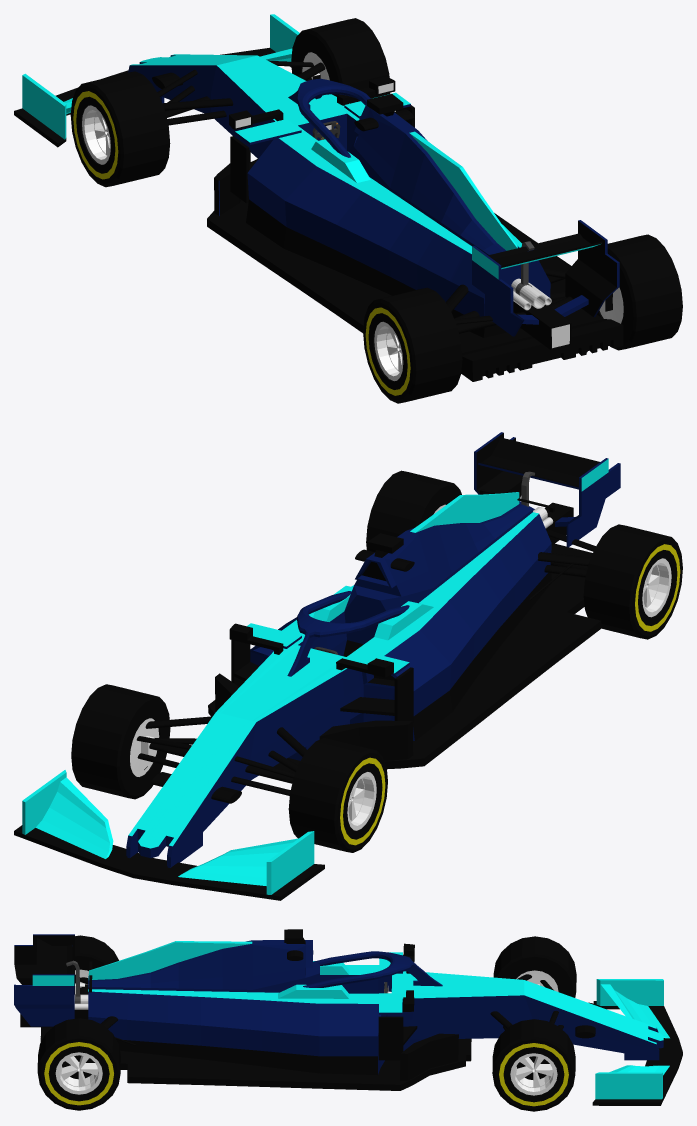
The picture shows the model from 3 angles, top to bottom: view 1: azimuth 30°, elevation 25°; view 2: azimuth 150°, elevation 25°; view 3: azimuth 270°, elevation 25°; orthographic projection. The views are drawn at different scales.
Parts seen in each view (by area): view 1: Chassis, Front Left Wheel, Rear Left Wheel, Rear Right Wheel, Front Right Wheel, Front Suspension, Rear Suspension, Bargeboards, Exhaust; view 2: Chassis, Rear Left Wheel, Front Left Wheel, Front Right Wheel, Rear Right Wheel, Front Suspension, Bargeboards, Rear Suspension; view 3: Chassis, Front Right Wheel, Rear Right Wheel, Front Left Wheel, Bargeboards, Rear Left Wheel, Front Suspension, Rear Suspension.
Part boxes in pixels (x1,y1,x2,y2): Chassis: (14,14,623,381); Front Left Wheel: (70,71,170,187); Rear Left Wheel: (363,287,462,403); Rear Right Wheel: (597,234,682,350); Front Right Wheel: (291,18,390,103); Front Suspension: (157,60,325,125); Rear Suspension: (446,267,572,333); Bargeboards: (230,105,414,203); Exhaust: (511,278,551,310); Chassis: (14,432,620,900); Rear Left Wheel: (583,524,682,639); Front Left Wheel: (288,738,387,852); Front Right Wheel: (71,684,170,799); Rear Right Wheel: (366,470,461,551); Front Suspension: (136,716,306,795); Bargeboards: (231,640,413,722); Rear Suspension: (529,530,595,600); Chassis: (14,929,682,1105); Front Right Wheel: (492,1019,575,1111); Rear Right Wheel: (37,1018,120,1110); Front Left Wheel: (493,936,576,997); Bargeboards: (378,954,417,1060); Rear Left Wheel: (75,935,118,994); Front Suspension: (490,974,563,1029); Rear Suspension: (75,974,136,1045).
Size of the model in its own units: 507 by 1396 by 293.
